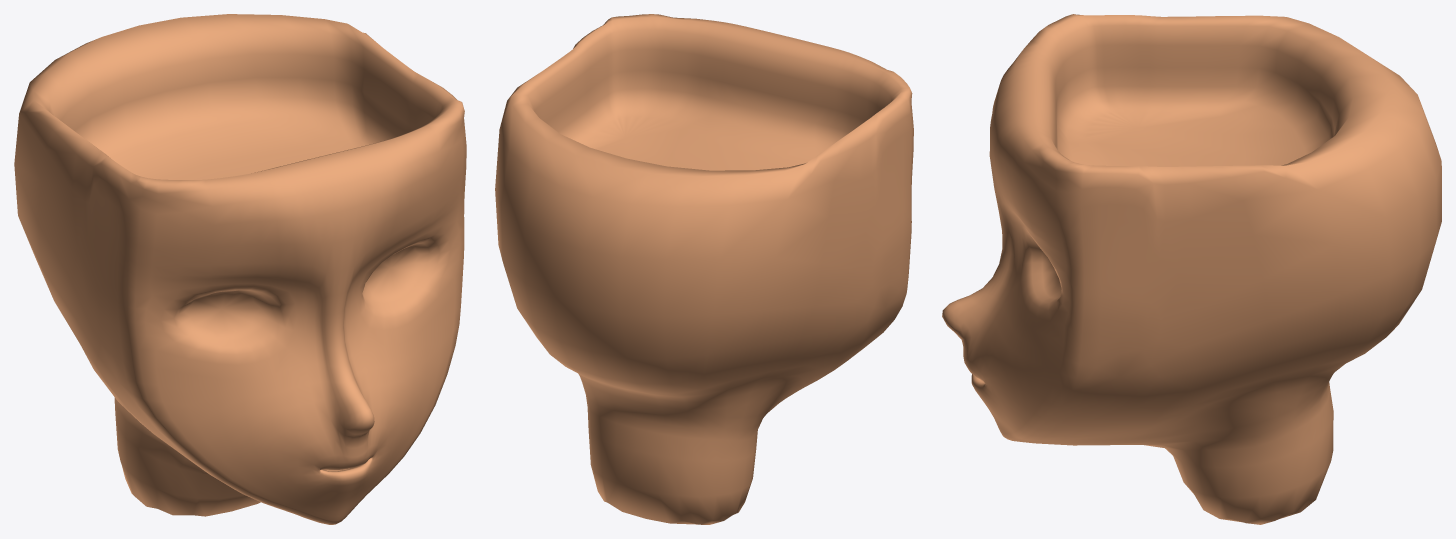
The model's file is cabeza2.fbx.
3 renders of one model, left to right at view 1: azimuth 30°, elevation 25°; view 2: azimuth 150°, elevation 25°; view 3: azimuth 270°, elevation 25°, orthographic. The views are drawn at different scales.
Visible parts, largest first — view 1: Cube; view 2: Cube; view 3: Cube.
Boxes of the visible parts, x1=… form: Cube: x1=14, y1=14, x2=466, y2=524; Cube: x1=495, y1=14, x2=913, y2=524; Cube: x1=942, y1=14, x2=1441, y2=524.
Bounding box in the file's own units: 78.91 × 95.76 × 104.
